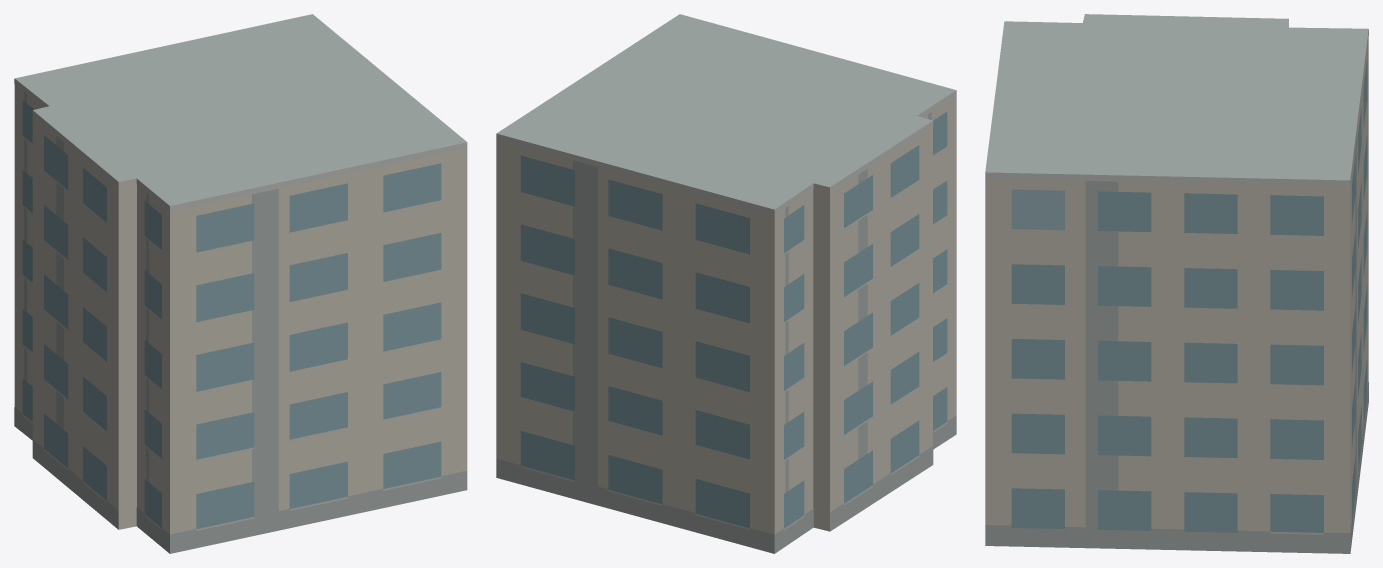
Rendered from survey-upis-32889111.glb.
3 renders of one model, left to right at view 1: azimuth 30°, elevation 25°; view 2: azimuth 150°, elevation 25°; view 3: azimuth 270°, elevation 25°, orthographic. The views are drawn at different scales.
Visible parts, largest first — view 1: survey-upis-32889111.tmp; view 2: survey-upis-32889111.tmp; view 3: survey-upis-32889111.tmp.
Part boxes in pixels (<box>): survey-upis-32889111.tmp: <box>14,14,467,553</box>; survey-upis-32889111.tmp: <box>496,14,956,553</box>; survey-upis-32889111.tmp: <box>985,14,1368,553</box>.
Size of the model in its own units: 13.87 by 14.5 by 13.51.
